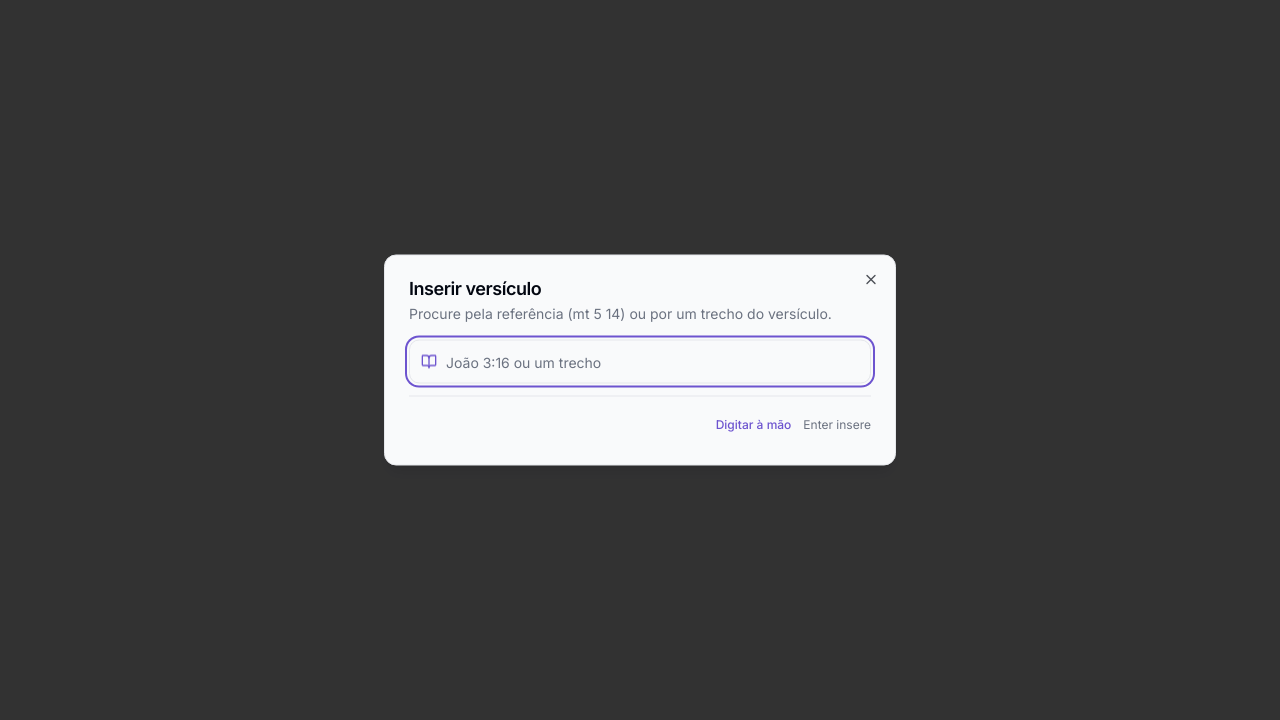
VerseDialog — busca › enquanto procura mostra Procurando…
In the dropdown named "Referência ou palavras do versículo": point(640, 362) [409, 340, 871, 384], type "mt 5 14"
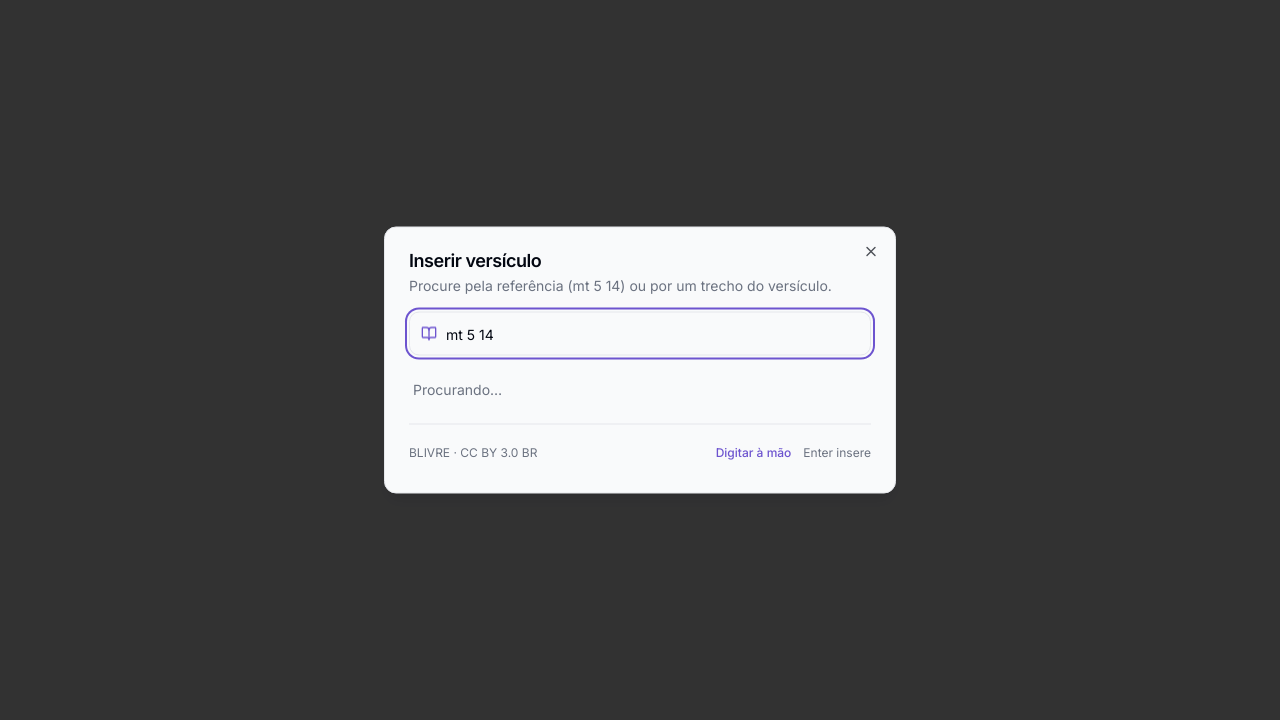
Expected: the text "Procurando…" is shown, [413, 380, 502, 398]
